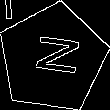N_W: (25, 35, 80, 82)
